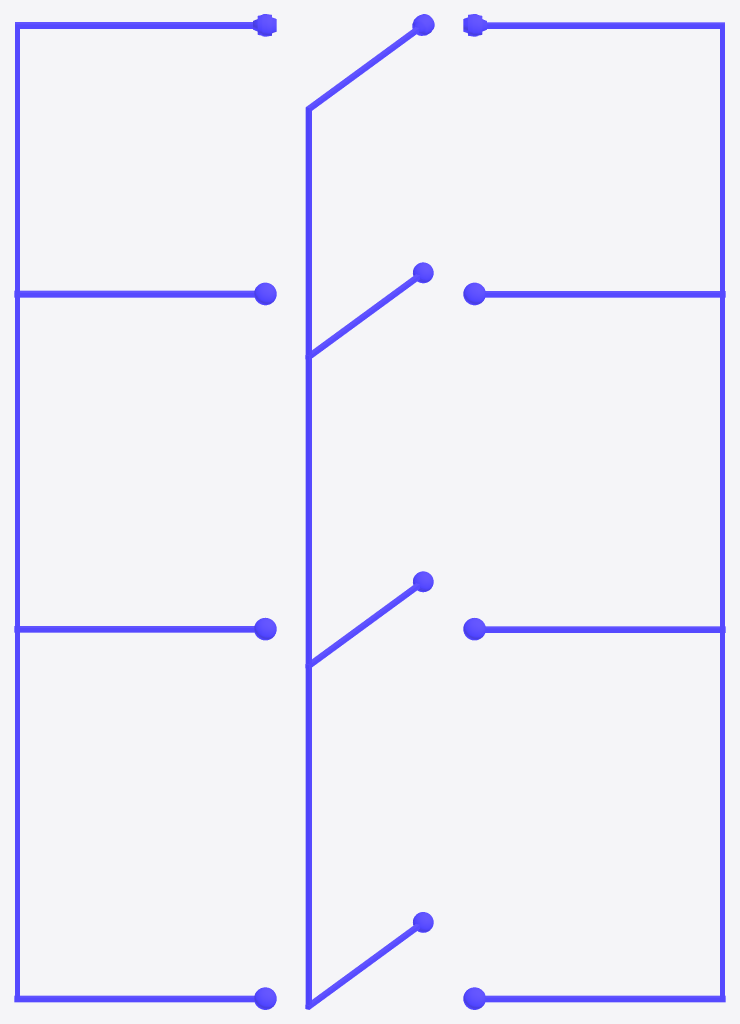
Rendered from SegnAzien2.gltf.
3 views of the same model, side by side, from view 1: azimuth 90°, elevation 25°; view 2: azimuth 150°, elevation 25°; view 3: azimuth 270°, elevation 25° (orthographic). The views are drawn at different scales.
Visible parts, largest first — view 1: ListnerModuli.006; view 2: ListnerModuli.006; view 3: ListnerModuli.006.
Part boxes in pixels (x1=…): ListnerModuli.006: x1=14, y1=14, x2=276, y2=1009; ListnerModuli.006: x1=305, y1=14, x2=434, y2=1009; ListnerModuli.006: x1=463, y1=14, x2=725, y2=1009.
Bounding box in the file's own units: 0.0421 × 2.03 × 0.4867.
